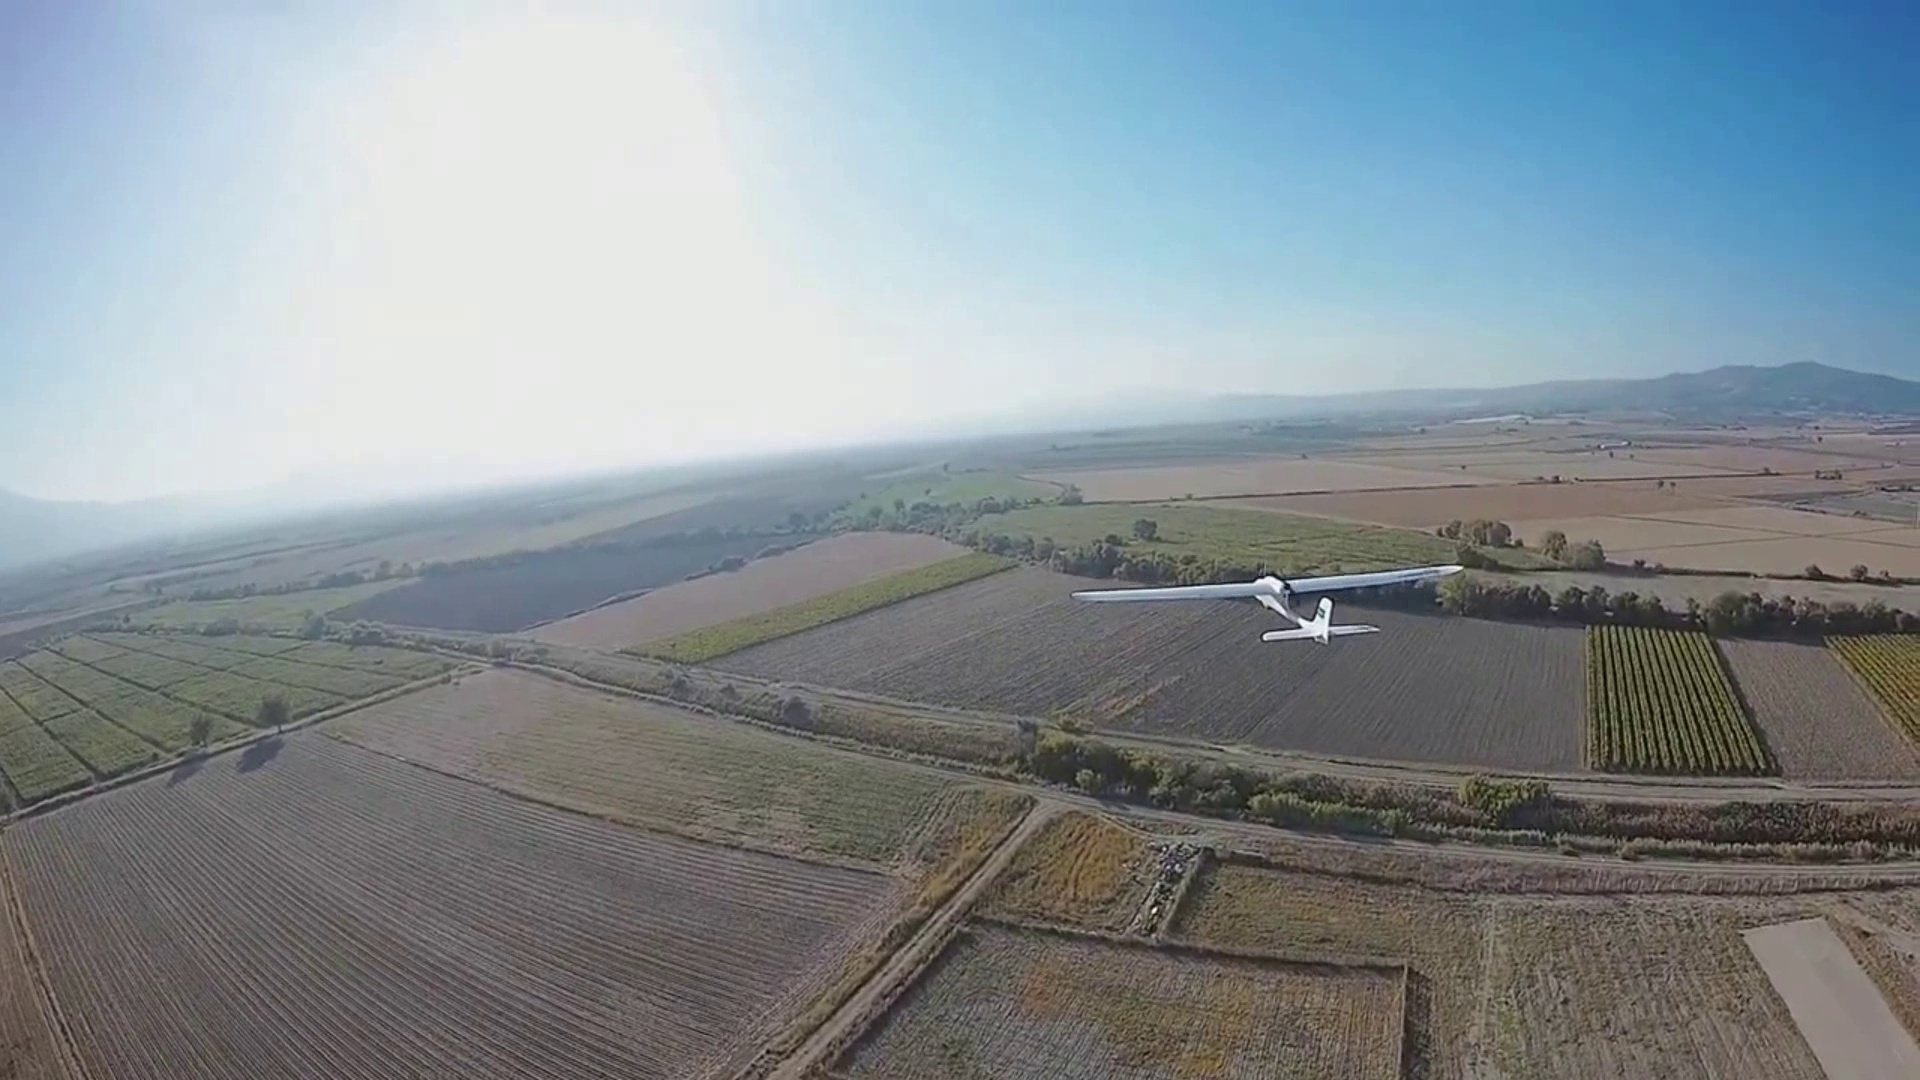airplane: (1252, 570, 1376, 642)
